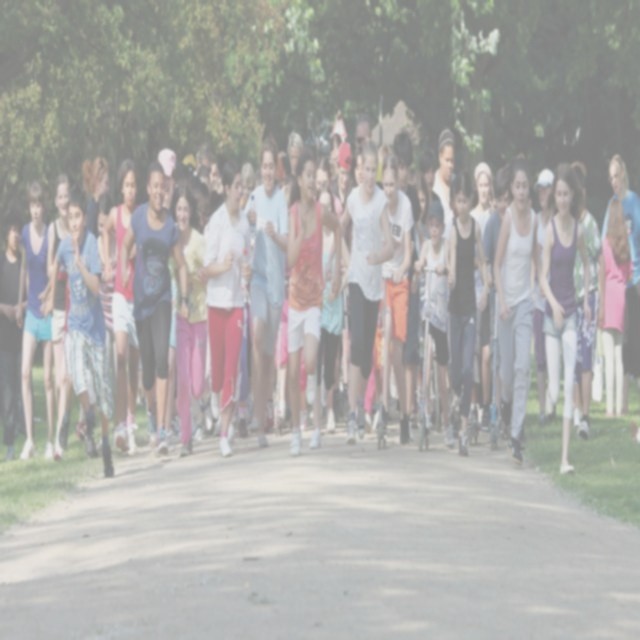pessoa: (42, 181, 116, 482), (118, 158, 191, 462), (284, 142, 344, 460), (338, 136, 397, 449), (490, 148, 544, 470), (538, 158, 592, 479), (240, 134, 292, 452), (200, 154, 254, 460), (445, 164, 490, 460), (372, 148, 414, 449), (101, 157, 142, 460), (408, 196, 456, 452), (14, 176, 56, 466), (167, 182, 210, 458), (308, 178, 352, 440), (392, 124, 426, 443), (570, 158, 607, 442), (600, 154, 640, 416), (477, 166, 512, 441), (597, 194, 635, 428), (273, 182, 308, 434), (0, 203, 29, 467), (45, 170, 71, 464), (95, 190, 123, 452), (529, 166, 557, 427), (157, 146, 178, 456), (342, 142, 366, 270), (432, 127, 458, 237), (80, 154, 110, 240), (177, 134, 224, 186), (313, 154, 343, 222), (418, 146, 442, 224), (330, 140, 355, 213), (412, 170, 431, 261), (468, 160, 493, 222), (476, 176, 498, 244), (191, 186, 224, 231), (286, 129, 304, 180), (353, 110, 373, 152), (238, 161, 254, 211), (568, 382, 584, 432), (446, 172, 459, 222), (274, 152, 290, 186), (630, 417, 640, 460), (330, 131, 342, 163), (377, 142, 392, 166), (526, 185, 536, 211), (254, 163, 262, 189)
